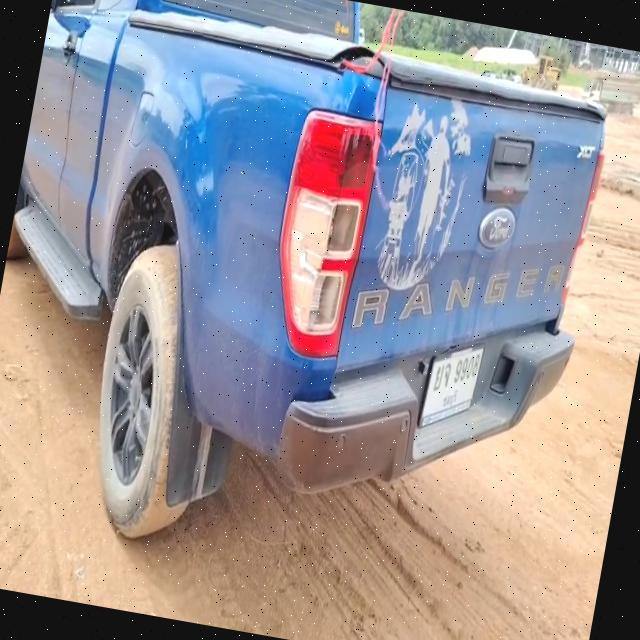Digit: (452, 347, 482, 387)
Licenseplate: (416, 342, 487, 433)
Provincename: (442, 386, 461, 412)
Thaichar: (432, 354, 456, 396)
